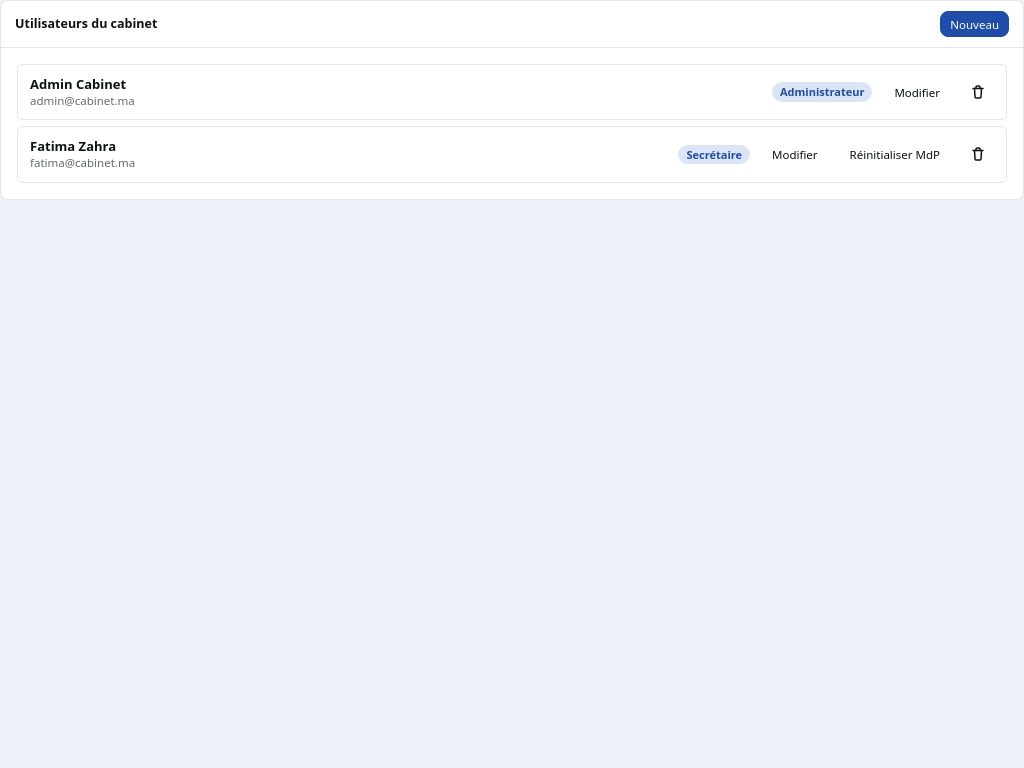
Test: UtilisateursTab — reset password dialog (V044) › 3. submits the reset and surfaces success
Expected: the text "Fatima Zahra" is shown, top-left (30, 137), bottom-right (116, 155)
Click the button with aria-label "Réinitialiser le mot de passe de Fatima Zahra" at (895, 154), box top-left (840, 141), bottom-right (950, 167)
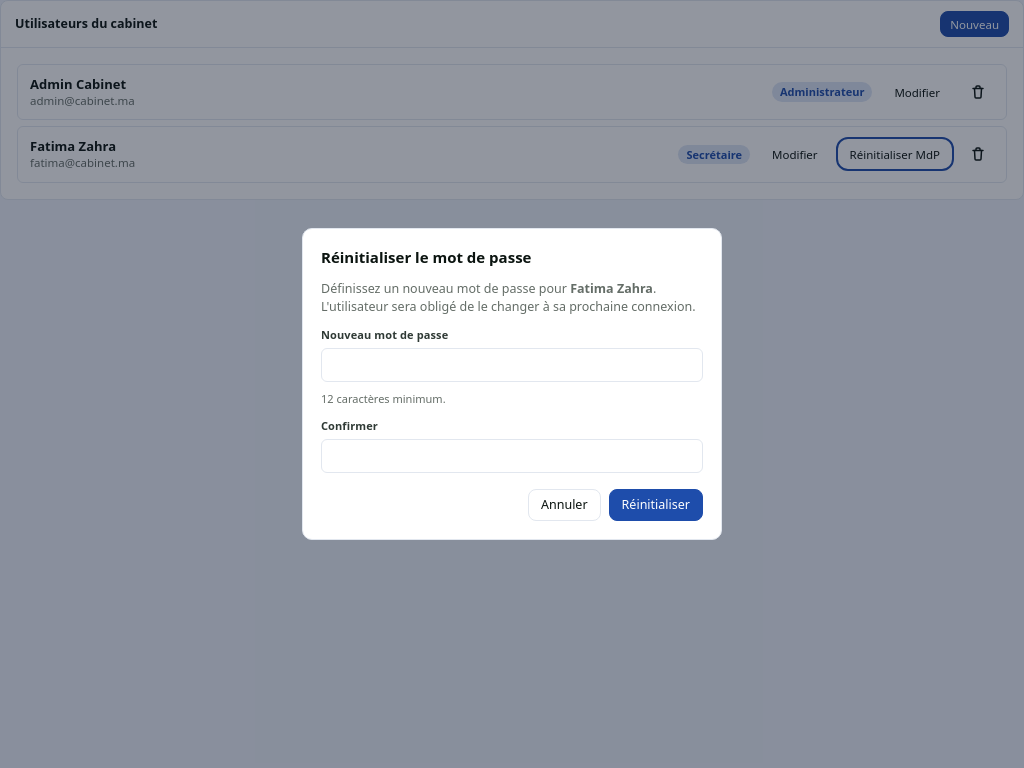
Type "Brand-New-Pwd-2026!" into the password field labelled "Nouveau mot de passe" at (512, 365), box top-left (321, 348), bottom-right (703, 382)
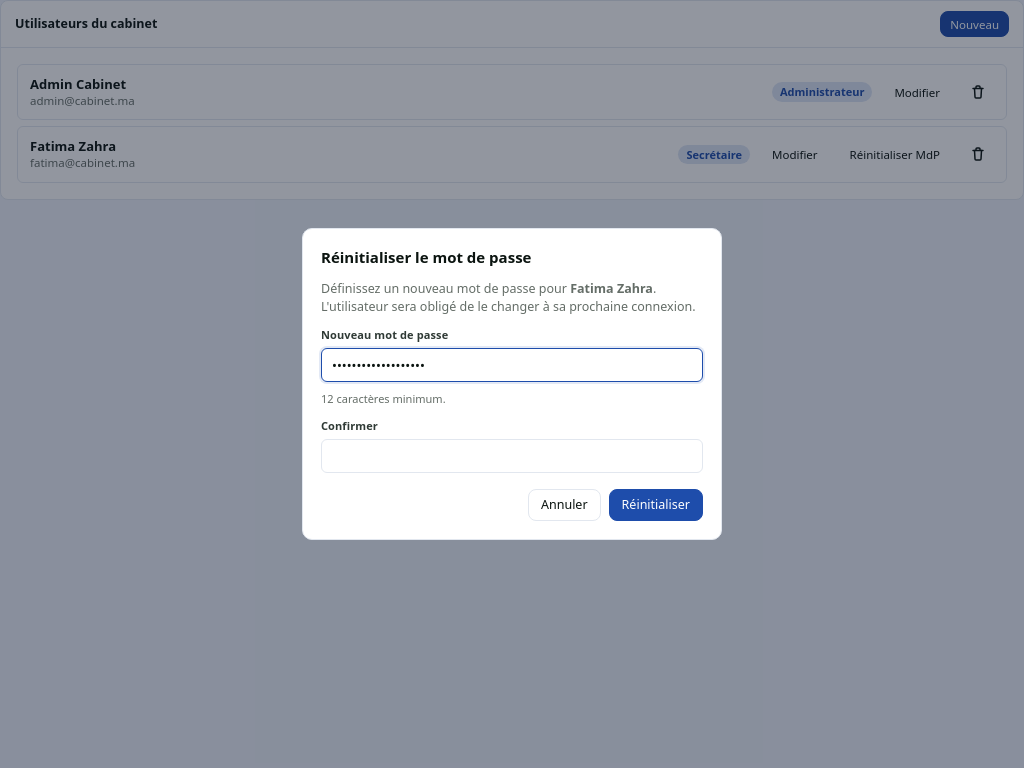
Type "Brand-New-Pwd-2026!" into the password field labelled "Confirmer" at (512, 456), box top-left (321, 439), bottom-right (703, 473)
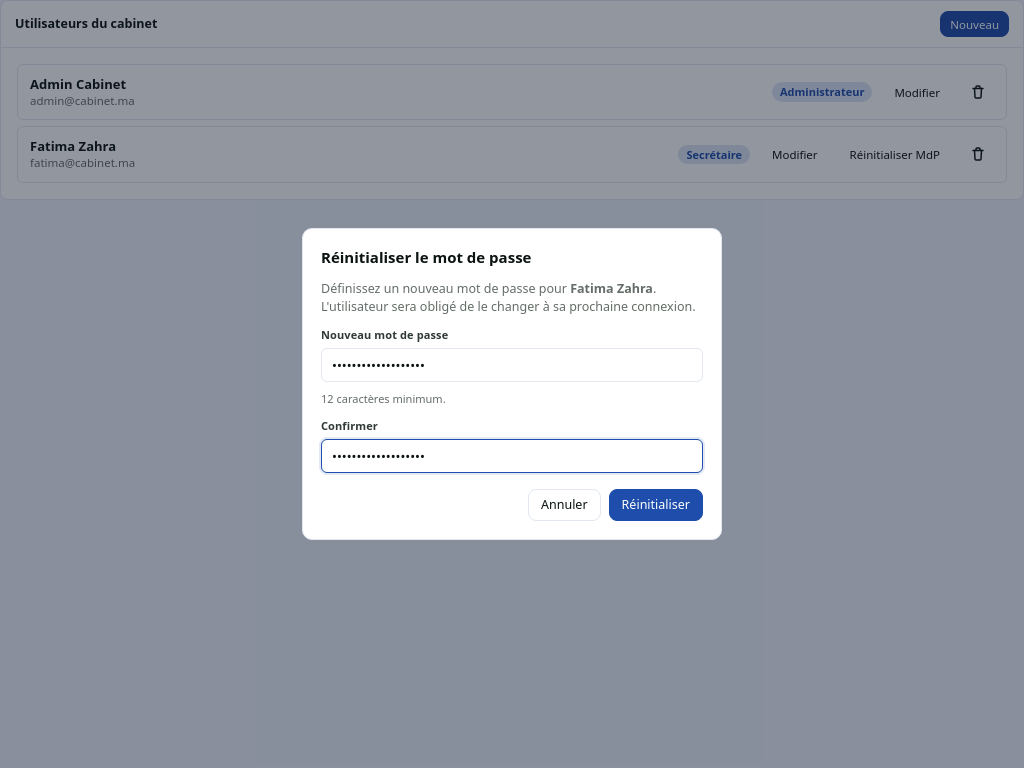
Click the button "Réinitialiser" at (656, 505), box top-left (609, 489), bottom-right (703, 521)
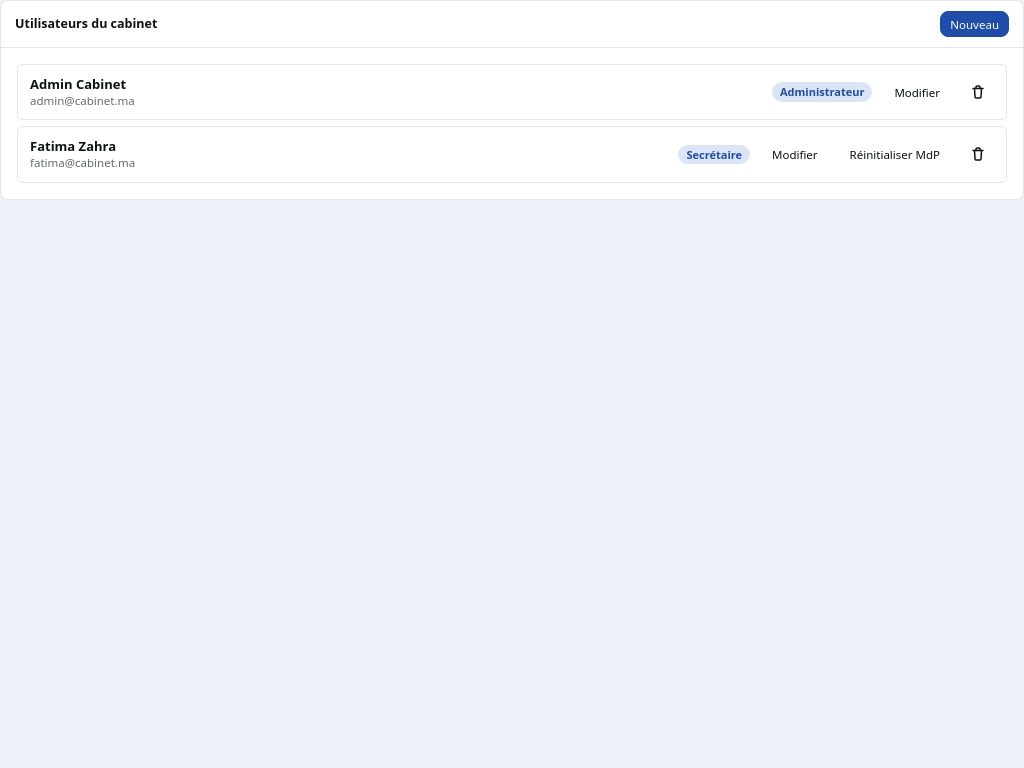
Expected: the dialog with test id "reset-password-dialog" is gone
